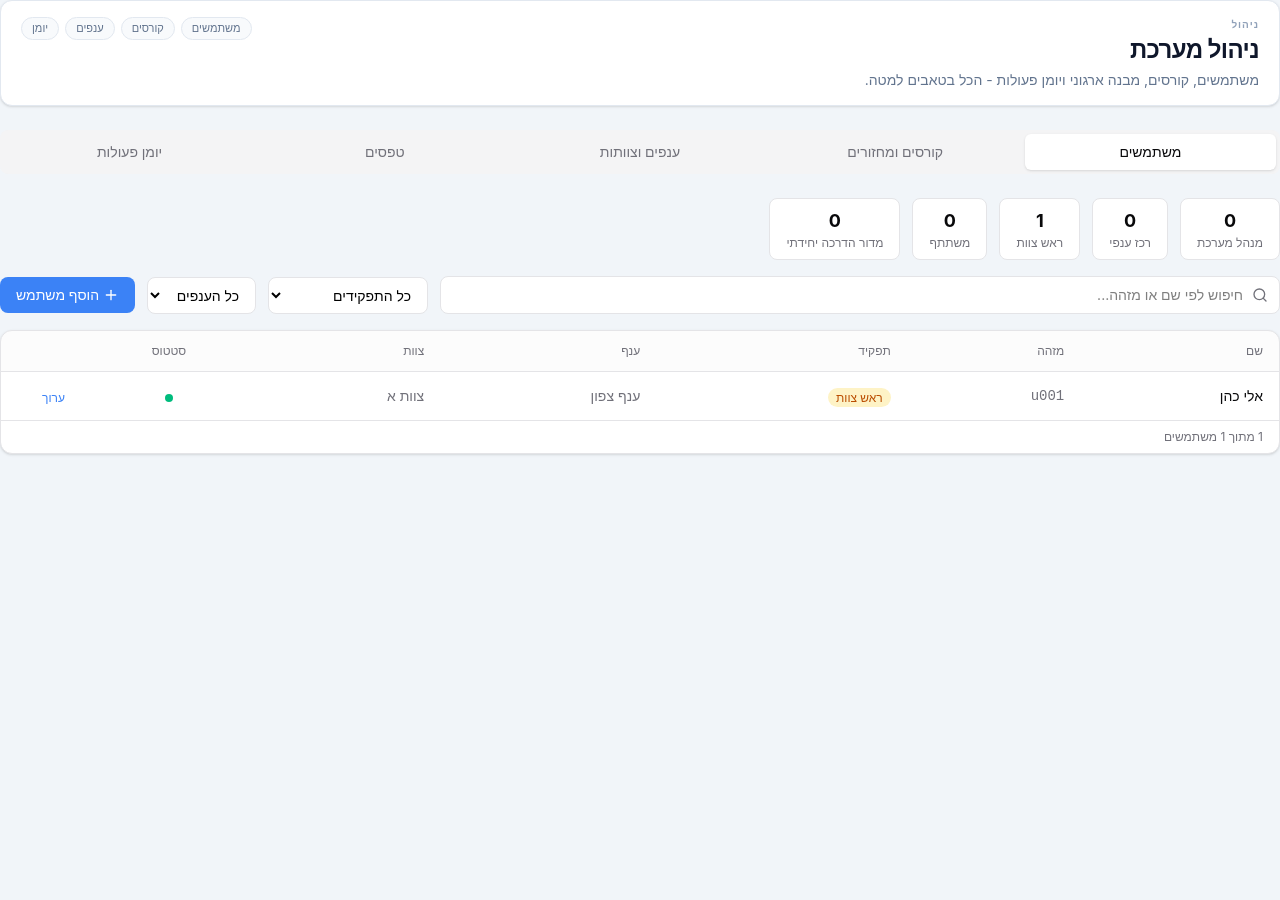
Test: Admin page › "הוסף משתמש" opens a modal (not inline)
Check: the text "אלי כהן" is shown, box [1080,372,1279,420]
Click the button "הוסף משתמש".
click(68, 295)  # box [0,277,135,313]
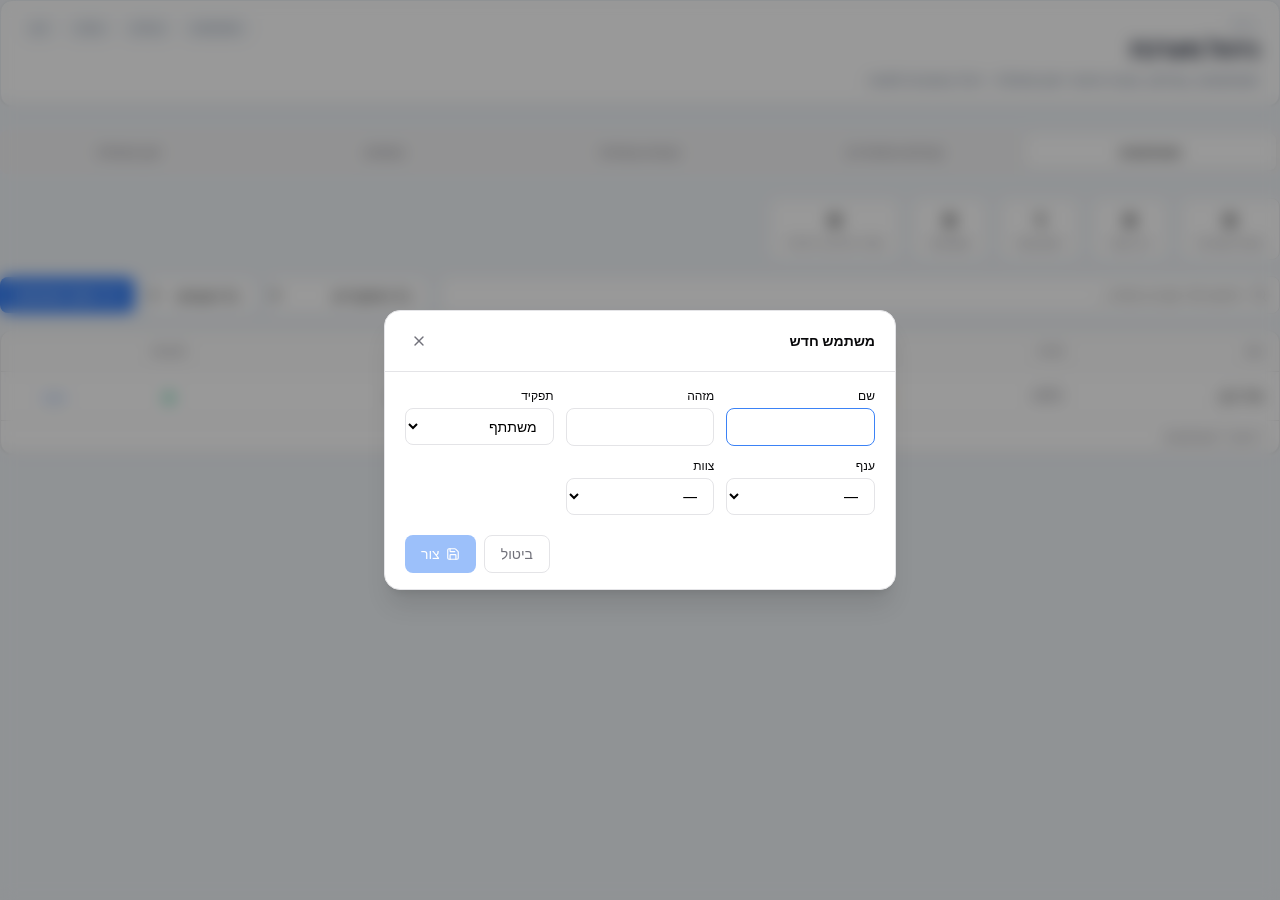
Check: the dialog is shown, box [384,310,896,590]
Check: the heading "משתמש חדש" is shown, box [790,331,875,351]
